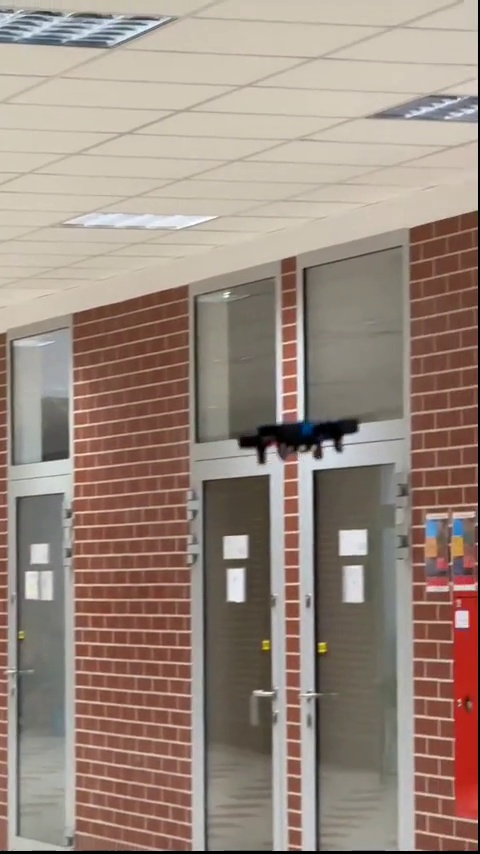drone: (244, 421, 365, 460)
